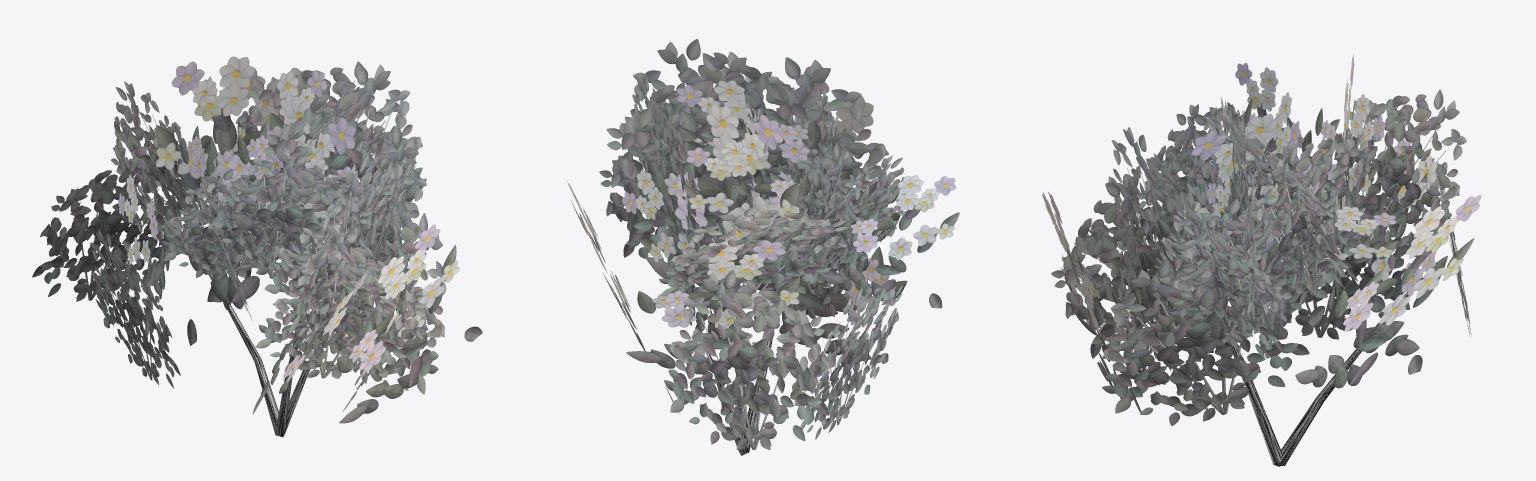
The model's file is bush_bloom_l1.gltf.
3 views of the same model, side by side, from view 1: azimuth 30°, elevation 25°; view 2: azimuth 150°, elevation 25°; view 3: azimuth 270°, elevation 25° (orthographic). The views are drawn at different scales.
Visible parts, largest first — view 1: bush_bloom_l1; view 2: bush_bloom_l1; view 3: bush_bloom_l1.
Boxes of the visible parts, box(x1,y1,x2,y2) form: bush_bloom_l1: box(32, 56, 482, 437); bush_bloom_l1: box(566, 39, 959, 455); bush_bloom_l1: box(1042, 53, 1481, 466).
Size of the model in its own units: 2.15 by 2.18 by 2.35.
2 materials, 2 textured.
